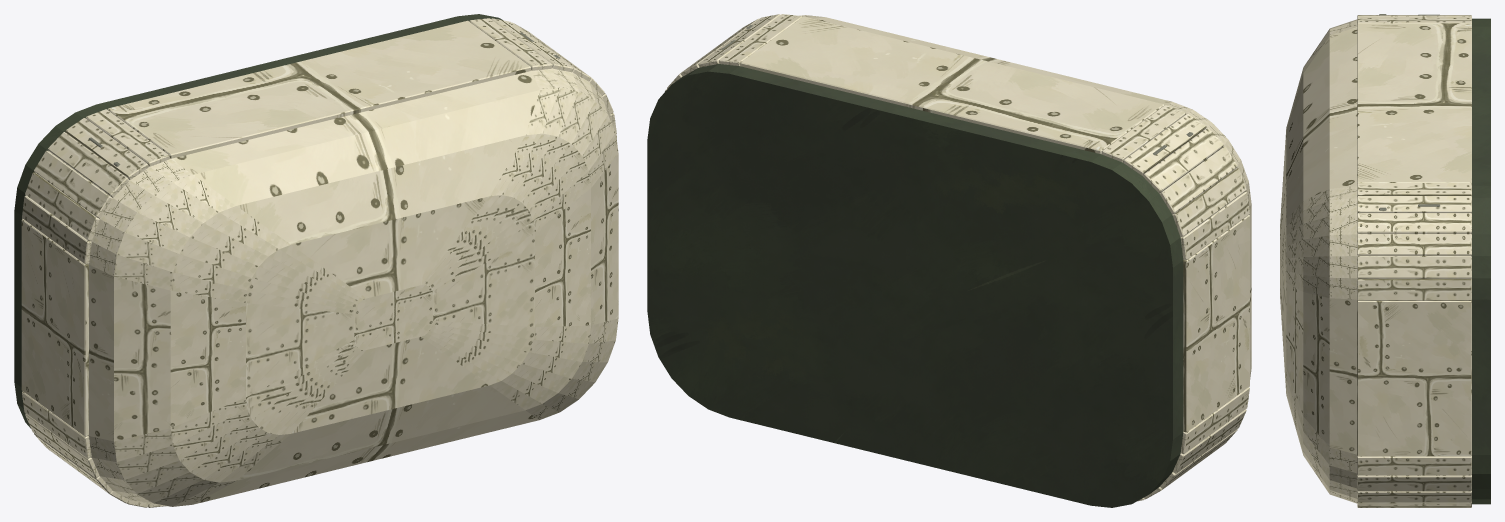
Rendered from ECHO7_22_Control_Navegacion.obj.
3 views of the same model, side by side, from view 1: azimuth 30°, elevation 25°; view 2: azimuth 150°, elevation 25°; view 3: azimuth 270°, elevation 25° (orthographic). The views are drawn at different scales.
Visible parts, largest first — view 1: ECHO7_22_Control_Navegacion__Pared_presion_07, ECHO7_22_Control_Navegacion__Techo_curvo_35, ECHO7_22_Control_Navegacion__Techo_curvo_63, ECHO7_22_Control_Navegacion__Pared_presion_14, ECHO7_22_Control_Navegacion__Techo_curvo_91, ECHO7_22_Control_Navegacion__Techo_curvo_70, ECHO7_22_Control_Navegacion__Techo_curvo_42, ECHO7_22_Control_Navegacion__Techo_curvo_77, ECHO7_22_Control_Navegacion__Techo_curvo_105, ECHO7_22_Control_Navegacion__Techo_curvo_07, ECHO7_22_Control_Navegacion__Techo_curvo_98, ECHO7_22_Control_Navegacion__Techo_curvo_84 (+78 smaller); view 2: ECHO7_22_Control_Navegacion__Suelo_modulo_01, ECHO7_22_Control_Navegacion__Pared_presion_07, ECHO7_22_Control_Navegacion__Pared_presion_14, ECHO7_22_Control_Navegacion__Pared_presion_11, ECHO7_22_Control_Navegacion__Pared_presion_10, ECHO7_22_Control_Navegacion__Pared_presion_12, ECHO7_22_Control_Navegacion__Pared_presion_09, ECHO7_22_Control_Navegacion__Techo_curvo_07, ECHO7_22_Control_Navegacion__Pared_presion_13, ECHO7_22_Control_Navegacion__Pared_presion_08, ECHO7_22_Control_Navegacion__Pared_presion_15, ECHO7_22_Control_Navegacion__Pared_presion_06 (+2 smaller); view 3: ECHO7_22_Control_Navegacion__Pared_presion_07, ECHO7_22_Control_Navegacion__Pared_presion_27, ECHO7_22_Control_Navegacion__Suelo_modulo_01, ECHO7_22_Control_Navegacion__Techo_curvo_07, ECHO7_22_Control_Navegacion__Techo_curvo_28, ECHO7_22_Control_Navegacion__Techo_curvo_35, ECHO7_22_Control_Navegacion__Techo_curvo_56, ECHO7_22_Control_Navegacion__Pared_presion_01, ECHO7_22_Control_Navegacion__Pared_presion_02, ECHO7_22_Control_Navegacion__Pared_presion_03, ECHO7_22_Control_Navegacion__Pared_presion_04, ECHO7_22_Control_Navegacion__Pared_presion_26 (+33 smaller).
Boxes of the visible parts, left/top/right/bottom form: ECHO7_22_Control_Navegacion__Pared_presion_07: left=107, top=20, right=531, bottom=158; ECHO7_22_Control_Navegacion__Techo_curvo_35: left=193, top=90, right=539, bottom=205; ECHO7_22_Control_Navegacion__Techo_curvo_63: left=237, top=135, right=525, bottom=244; ECHO7_22_Control_Navegacion__Pared_presion_14: left=21, top=219, right=88, bottom=436; ECHO7_22_Control_Navegacion__Techo_curvo_91: left=291, top=196, right=489, bottom=298; ECHO7_22_Control_Navegacion__Techo_curvo_70: left=170, top=290, right=245, bottom=427; ECHO7_22_Control_Navegacion__Techo_curvo_42: left=114, top=276, right=170, bottom=441; ECHO7_22_Control_Navegacion__Techo_curvo_77: left=237, top=385, right=524, bottom=480; ECHO7_22_Control_Navegacion__Techo_curvo_105: left=291, top=337, right=489, bottom=433; ECHO7_22_Control_Navegacion__Techo_curvo_07: left=171, top=71, right=539, bottom=174; ECHO7_22_Control_Navegacion__Techo_curvo_98: left=246, top=303, right=354, bottom=397; ECHO7_22_Control_Navegacion__Techo_curvo_84: left=535, top=188, right=590, bottom=326; ECHO7_22_Control_Navegacion__Suelo_modulo_01: left=647, top=64, right=1183, bottom=507; ECHO7_22_Control_Navegacion__Pared_presion_07: left=740, top=16, right=1164, bottom=154; ECHO7_22_Control_Navegacion__Pared_presion_14: left=1183, top=215, right=1249, bottom=432; ECHO7_22_Control_Navegacion__Pared_presion_11: left=1159, top=146, right=1237, bottom=214; ECHO7_22_Control_Navegacion__Pared_presion_10: left=1143, top=128, right=1223, bottom=193; ECHO7_22_Control_Navegacion__Pared_presion_12: left=1172, top=168, right=1246, bottom=236; ECHO7_22_Control_Navegacion__Pared_presion_09: left=1123, top=113, right=1206, bottom=175; ECHO7_22_Control_Navegacion__Techo_curvo_07: left=814, top=17, right=1172, bottom=105; ECHO7_22_Control_Navegacion__Pared_presion_13: left=1180, top=191, right=1249, bottom=260; ECHO7_22_Control_Navegacion__Pared_presion_08: left=1101, top=105, right=1185, bottom=162; ECHO7_22_Control_Navegacion__Pared_presion_15: left=1180, top=387, right=1249, bottom=454; ECHO7_22_Control_Navegacion__Pared_presion_06: left=719, top=14, right=802, bottom=65; ECHO7_22_Control_Navegacion__Pared_presion_07: left=1357, top=23, right=1471, bottom=183; ECHO7_22_Control_Navegacion__Pared_presion_27: left=1357, top=300, right=1471, bottom=456; ECHO7_22_Control_Navegacion__Suelo_modulo_01: left=1472, top=18, right=1490, bottom=504; ECHO7_22_Control_Navegacion__Techo_curvo_07: left=1329, top=27, right=1357, bottom=188; ECHO7_22_Control_Navegacion__Techo_curvo_28: left=1329, top=298, right=1357, bottom=454; ECHO7_22_Control_Navegacion__Techo_curvo_35: left=1303, top=36, right=1329, bottom=200; ECHO7_22_Control_Navegacion__Techo_curvo_56: left=1303, top=292, right=1329, bottom=446; ECHO7_22_Control_Navegacion__Pared_presion_01: left=1357, top=278, right=1471, bottom=300; ECHO7_22_Control_Navegacion__Pared_presion_02: left=1357, top=256, right=1471, bottom=278; ECHO7_22_Control_Navegacion__Pared_presion_03: left=1357, top=233, right=1471, bottom=255; ECHO7_22_Control_Navegacion__Pared_presion_04: left=1357, top=213, right=1471, bottom=233; ECHO7_22_Control_Navegacion__Pared_presion_26: left=1357, top=456, right=1471, bottom=475.
Bounding box in the file's own units: 16.22 × 10.35 × 6.15.
Materials: 7 (7 with a texture image).
